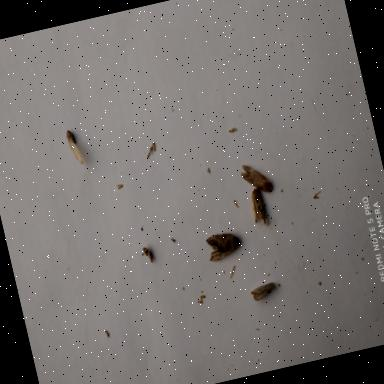pbw: (198, 227, 248, 267), (236, 156, 276, 201), (56, 123, 90, 173), (242, 185, 274, 231), (247, 276, 281, 306)
